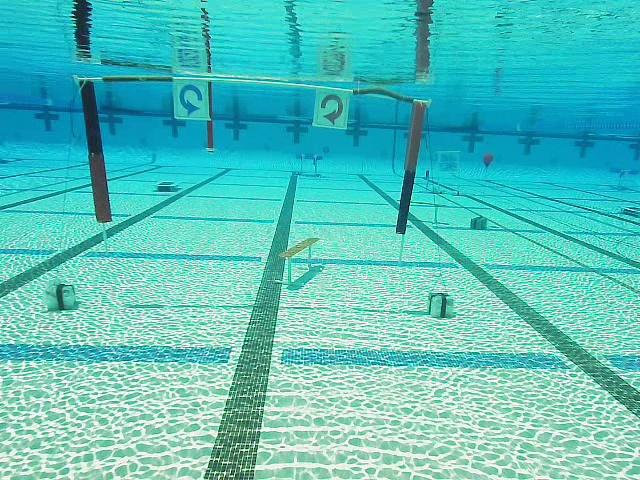buoy: (483, 150, 495, 170)
dropper: (154, 179, 182, 194)
gate: (72, 69, 431, 235)
gate_blue: (173, 80, 210, 121)
gate_leg_l: (78, 75, 113, 224)
gate_leg_r: (393, 95, 431, 235)
gate_red: (314, 89, 350, 129)
table: (295, 153, 323, 180)
torpedo: (438, 151, 461, 174)
